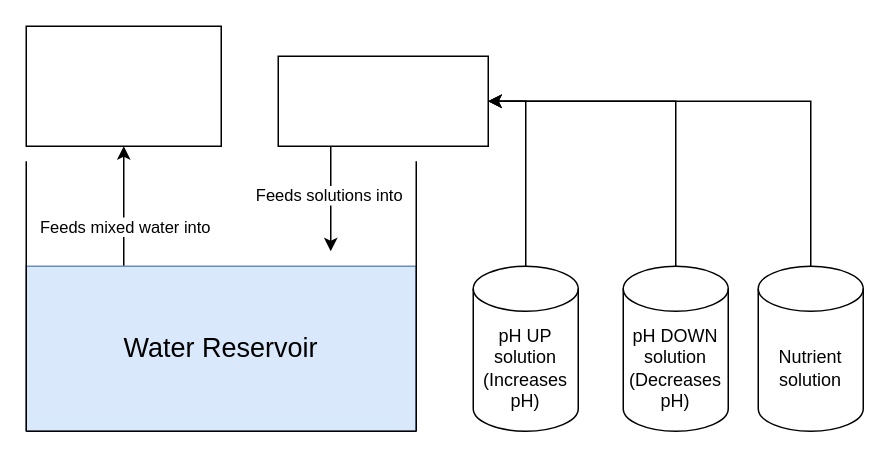
Some shapes in this 890 by 459 pixel diagram are drawn without their labels. The shapes that lost their labels are listed below. From the top down, each one's centre as x and y in pixels, then its label:
the point at 123,85: Plant system
the point at 382,100: Dosing Pumps
